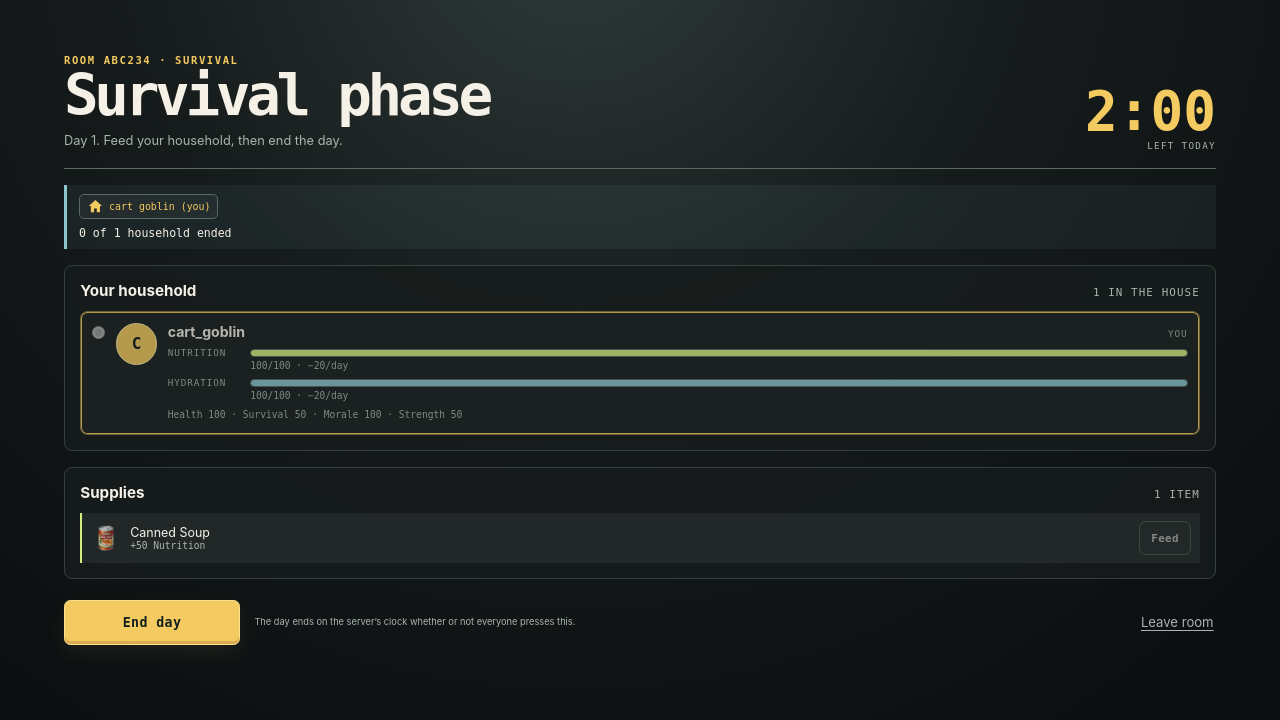
authentication application › carries the server’s readiness into the day and sends one End Day for it
Expected: the heading "Survival phase" is shown, [64, 71, 489, 122]
Expected: the text "2:00" is shown, [1085, 90, 1216, 133]
Click the button "End day" at (152, 622), box [64, 600, 240, 645]
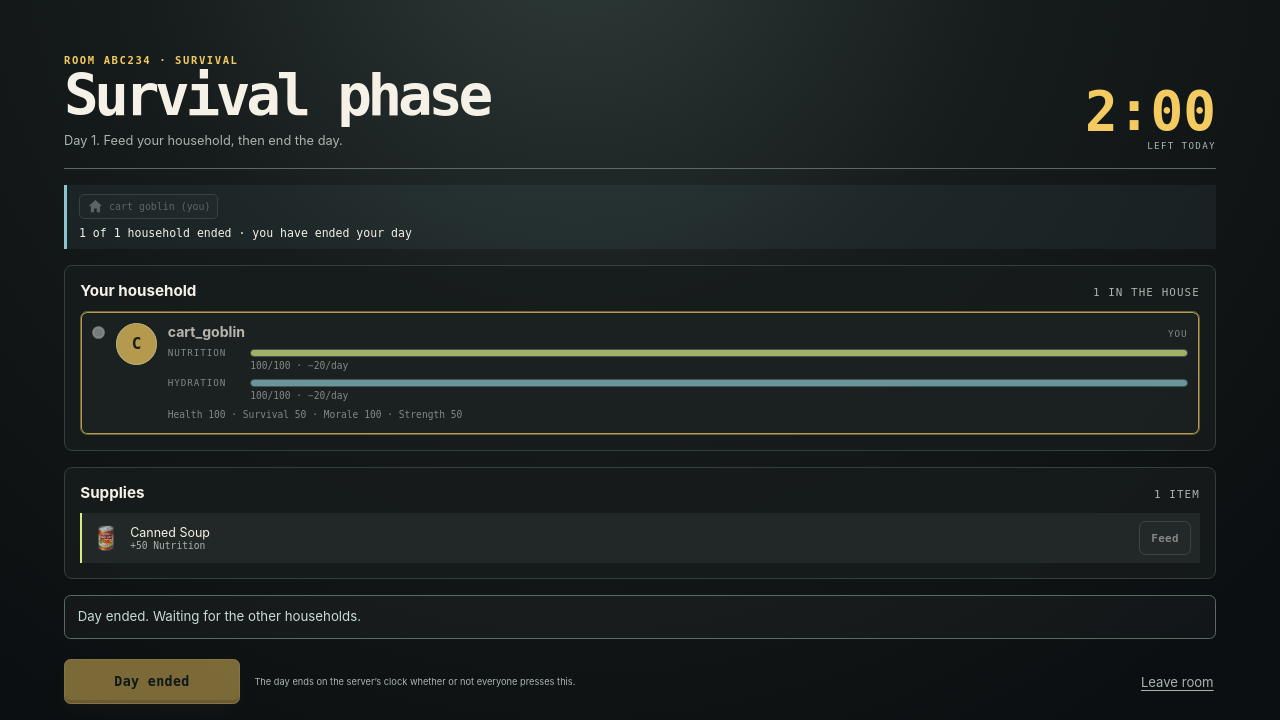
Result: the button "Day ended" is disabled at [64, 659, 240, 704]
